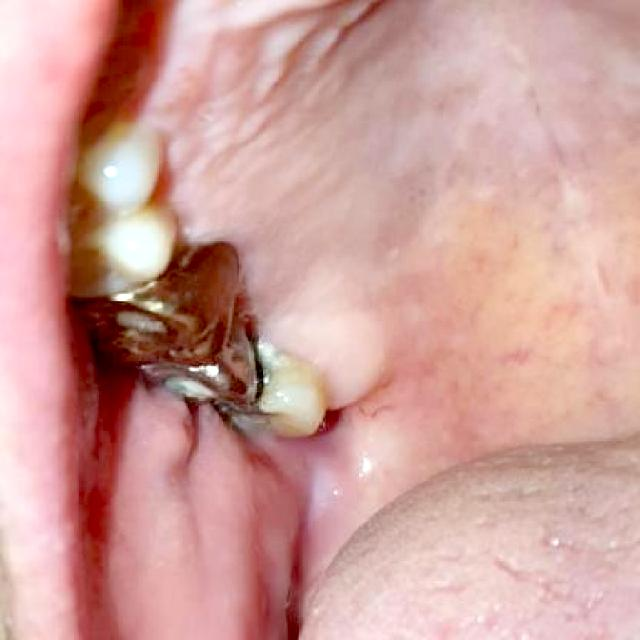Plaque: (188, 216, 349, 398)
